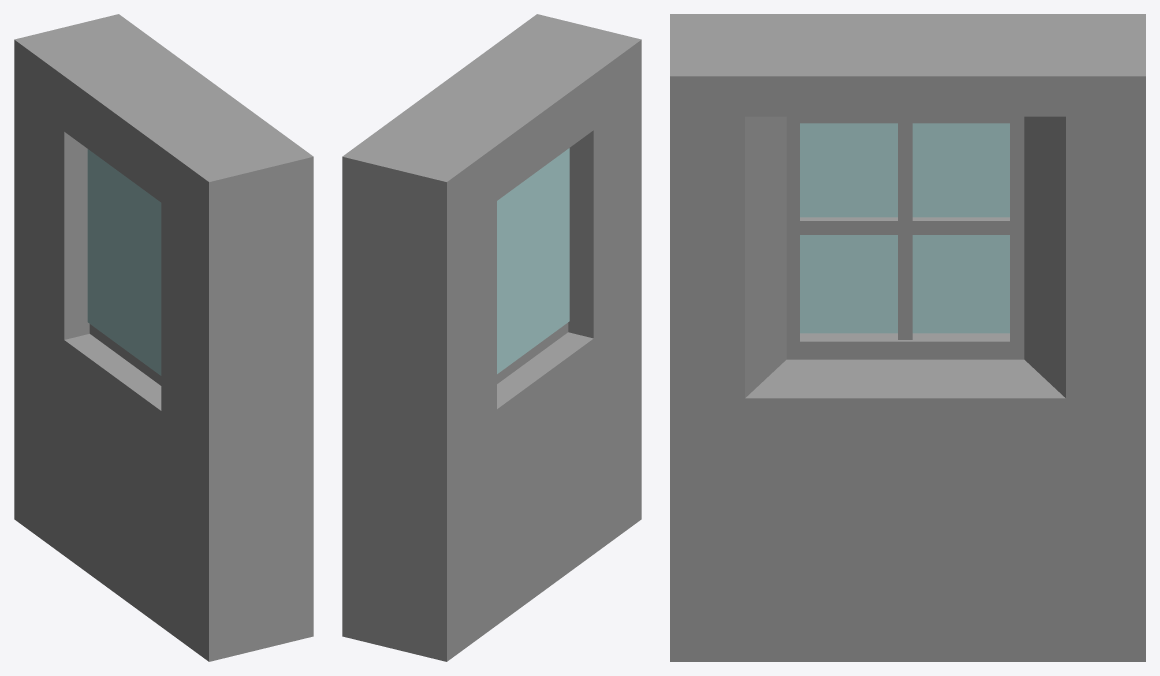
Rendered from MurFenetre.fbx.
3 renders of one model, left to right at view 1: azimuth 30°, elevation 25°; view 2: azimuth 150°, elevation 25°; view 3: azimuth 270°, elevation 25°, orthographic. The views are drawn at different scales.
Visible parts, largest first — view 1: pCube11; view 2: pCube11; view 3: pCube11.
Boxes of the visible parts, bbox=[...] form: pCube11: bbox=[14, 14, 313, 661]; pCube11: bbox=[342, 14, 641, 661]; pCube11: bbox=[670, 14, 1145, 661].
Bounding box in the file's own units: 3.53 × 15.45 × 11.38.
